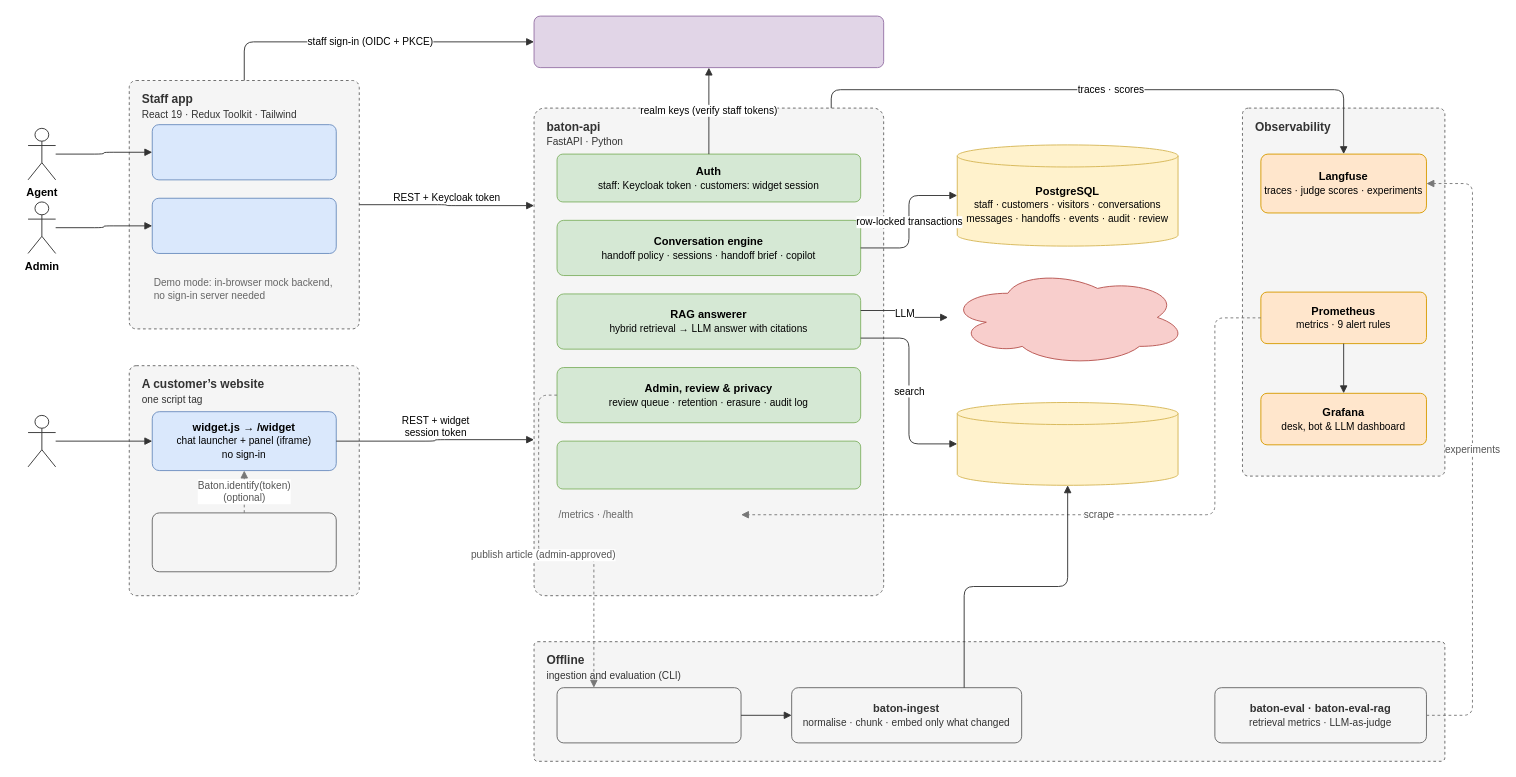
Image size: 1516x777. Some labels were removed from this diagram. The centre of each missing label's shape, as x and y in pixels:
/admin agents, review, customers, policy, audit: point 243,225
/desk agent desk: queue, handoff brief, copilot: point 243,152
Background jobs close idle sessions · retention · review: point 708,464
Customer: point 41,440
Groq gpt-oss-20b answers · gpt-oss-120b judge: point 1067,317
Keycloak realm baton · staff only: agent · admin: point 708,41
Knowledge index vectors (bge-small) + BM25: point 1067,443
Sources WixQA · ABCD · content/*.md: point 648,715
The site’s backend signs an identity token for signed-in shoppers: point 243,542
